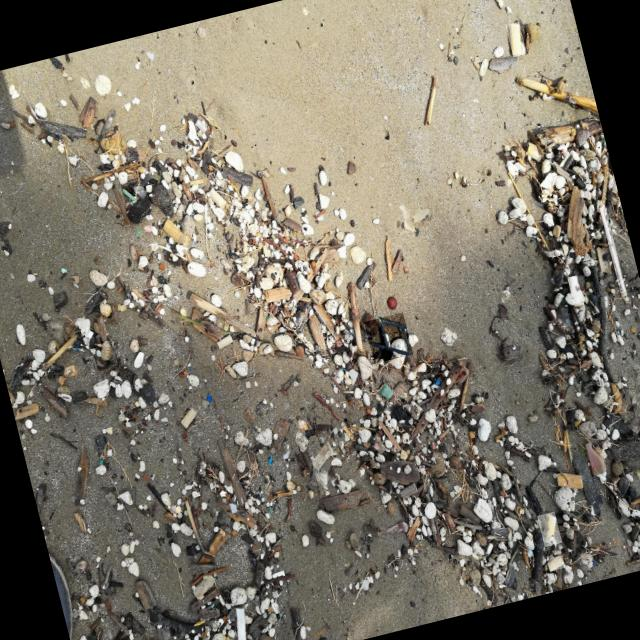Cigarette: (599, 207, 626, 291), (508, 23, 521, 55), (567, 277, 581, 306), (543, 514, 556, 545), (557, 474, 583, 489), (547, 556, 564, 571)
Other plastic bottle: (584, 443, 606, 475), (235, 608, 245, 640), (379, 382, 393, 400), (122, 188, 136, 201), (143, 226, 152, 231), (527, 549, 533, 556), (207, 395, 212, 401), (268, 457, 272, 464), (374, 443, 378, 450), (436, 378, 439, 383)
Unlabeled litter: (369, 318, 410, 355)
